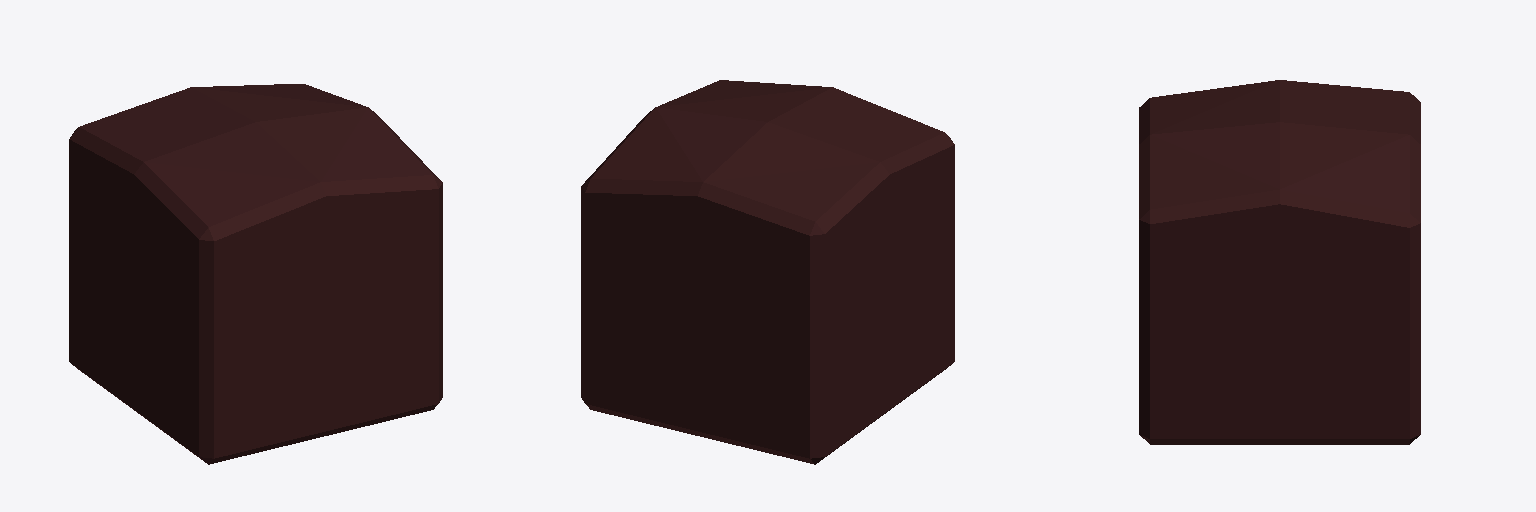
Rendered from Pouf1.obj.
The picture shows the model from 3 angles: view 1: azimuth 30°, elevation 25°; view 2: azimuth 150°, elevation 25°; view 3: azimuth 270°, elevation 25°; orthographic projection.
Visible parts, largest first — view 1: Pouf1_Cube.038; view 2: Pouf1_Cube.038; view 3: Pouf1_Cube.038.
Part boxes in pixels (x1,y1,x2,y2): Pouf1_Cube.038: (69, 84, 442, 464); Pouf1_Cube.038: (581, 80, 954, 464); Pouf1_Cube.038: (1139, 80, 1420, 444).
Bounding box in the file's own units: 0.7298 × 0.7658 × 0.7298.